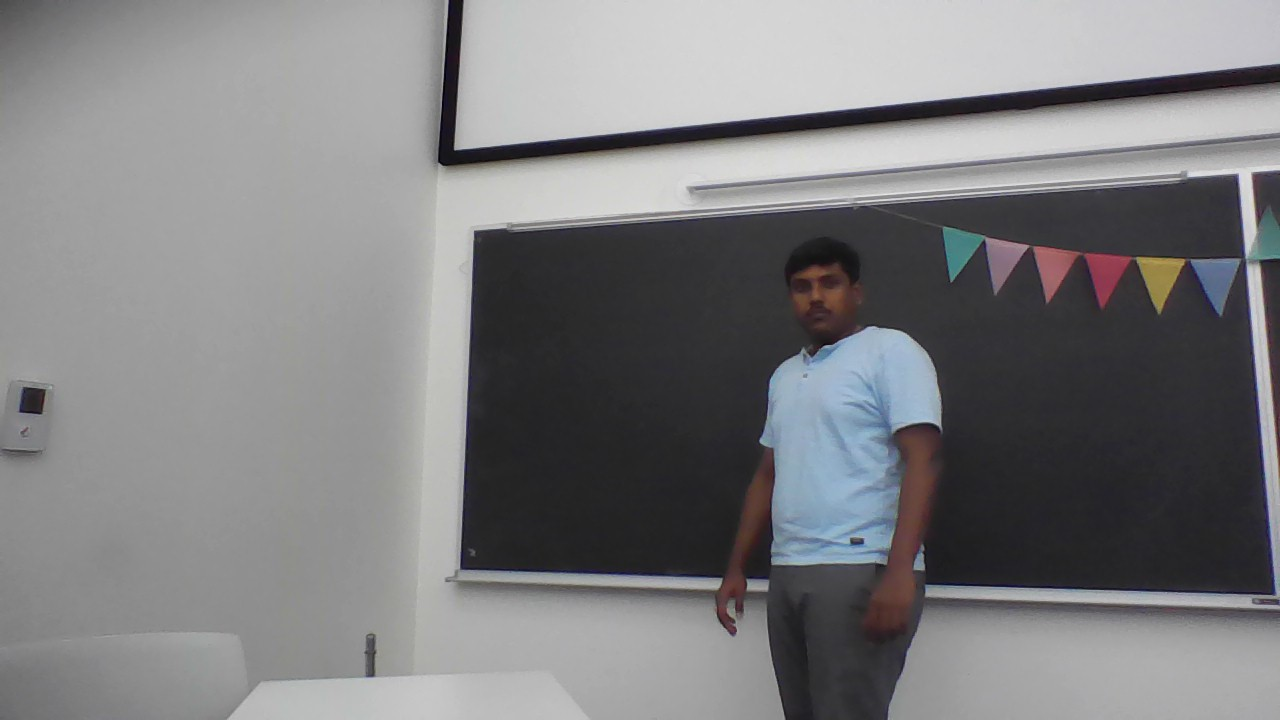height_frame: (706, 237, 958, 716)
hip_frame: (770, 552, 925, 579)
shoulder_frame: (772, 348, 905, 373)
waist_frame: (775, 487, 919, 498)
